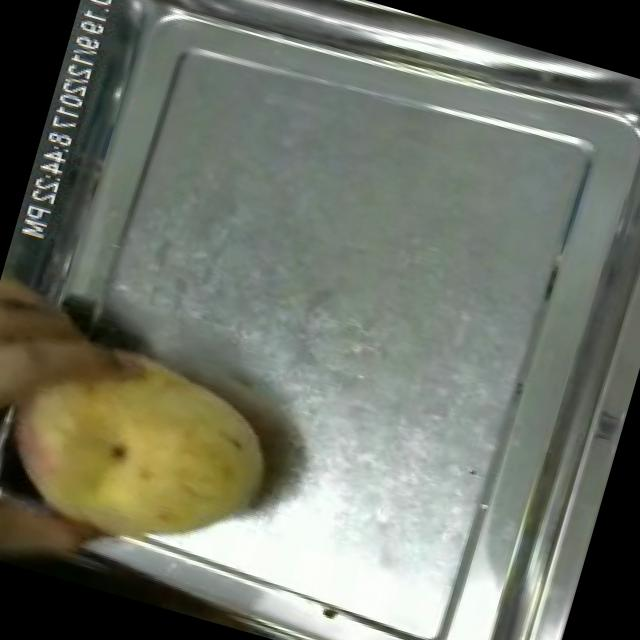Fruit: (0, 259, 312, 608)
